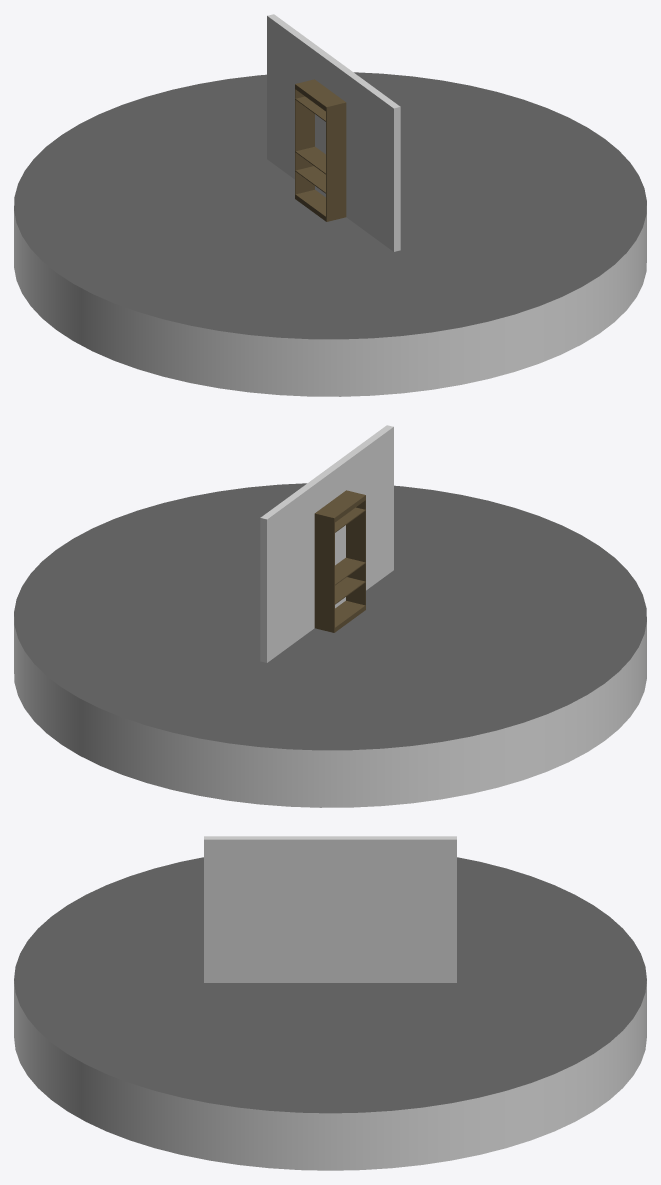
The model's file is Biome_Shelf_Rack_A.glb.
3 views of the same model, one above another, from view 1: azimuth 30°, elevation 25°; view 2: azimuth 150°, elevation 25°; view 3: azimuth 270°, elevation 25° (orthographic).
Visible parts, largest first — view 1: Biome.001, Backwall.002, Casework-Closet Built In-Single -BASE- [5497009].001; view 2: Biome.001, Backwall.002, Casework-Closet Built In-Single -BASE- [5497009].001; view 3: Biome.001, Backwall.002.
Boxes of the visible parts, x1,y1,x2,y2 form: Biome.001: (14,72,646,396); Backwall.002: (267,14,400,251); Casework-Closet Built In-Single -BASE- [5497009].001: (295,79,346,221); Biome.001: (14,483,646,807); Backwall.002: (260,425,393,662); Casework-Closet Built In-Single -BASE- [5497009].001: (314,490,365,632); Biome.001: (14,857,646,1170); Backwall.002: (204,836,456,982).
Bounding box in the file's own units: 12.19 × 4.27 × 12.19.
